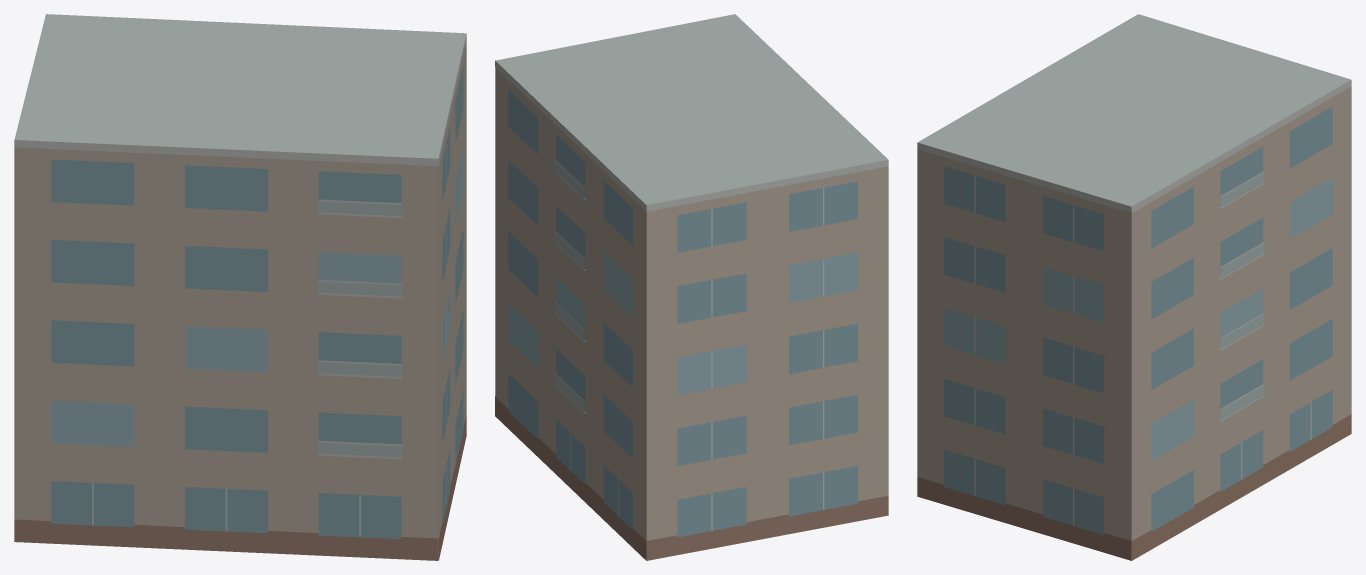
Rendered from survey-upis-32842978.glb.
3 views of the same model, side by side, from view 1: azimuth 30°, elevation 25°; view 2: azimuth 150°, elevation 25°; view 3: azimuth 270°, elevation 25° (orthographic). The views are drawn at different scales.
Visible parts, largest first — view 1: survey-upis-32842978.tmp; view 2: survey-upis-32842978.tmp; view 3: survey-upis-32842978.tmp.
Boxes of the visible parts, <box> form: survey-upis-32842978.tmp: <box>14,14,466,560</box>; survey-upis-32842978.tmp: <box>495,14,888,560</box>; survey-upis-32842978.tmp: <box>917,14,1351,560</box>.
Bounding box in the file's own units: 15.42 × 13.2 × 14.68.
